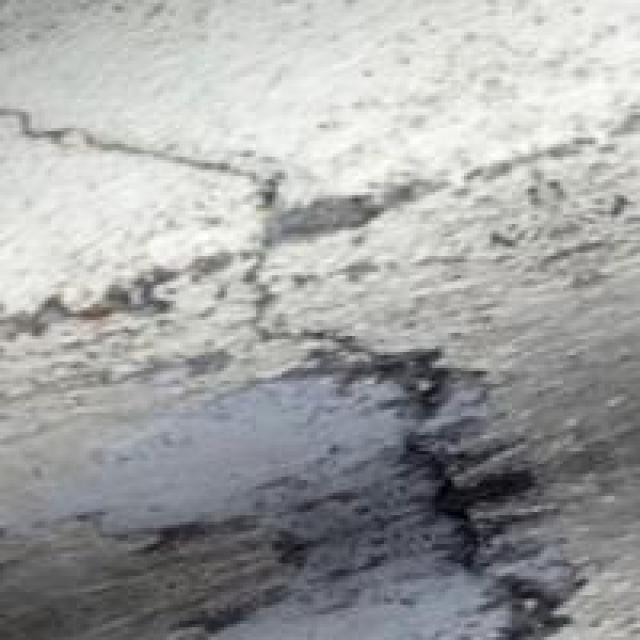SurfaceCrack: (0, 70, 536, 604)
